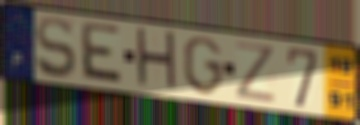7: (285, 45, 319, 110)
E: (78, 19, 126, 88)
G: (181, 35, 226, 98)
H: (134, 25, 180, 96)
S: (34, 15, 79, 81)
Z: (233, 40, 279, 105)
